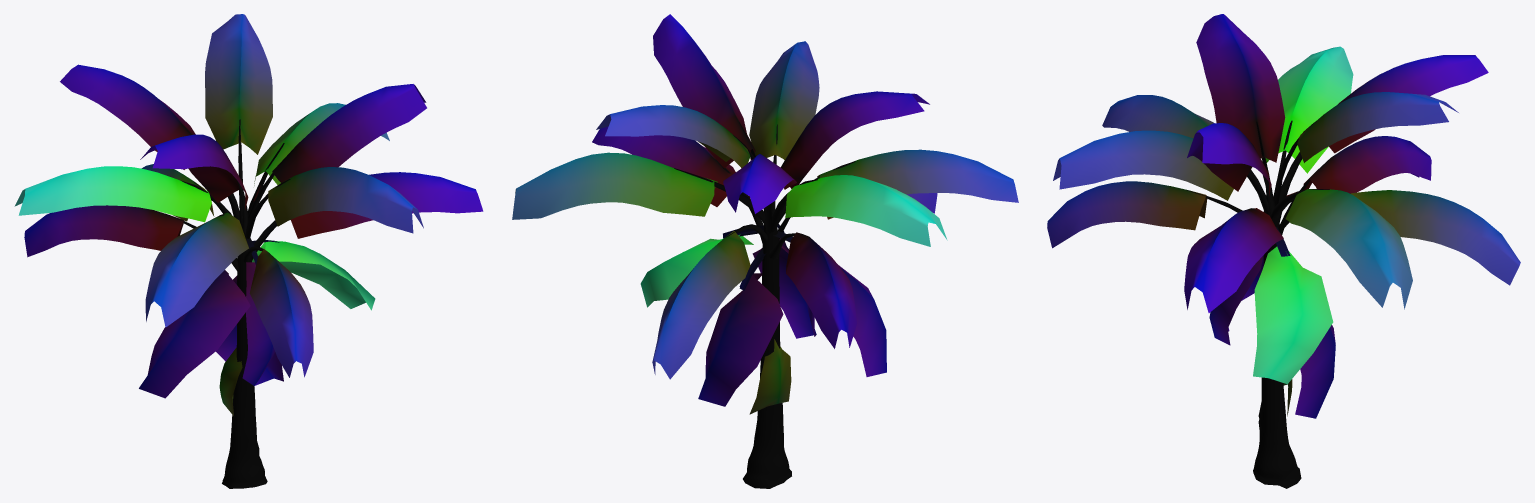
Rendered from BananaTree2.fbx.
The picture shows the model from 3 angles, left to right: view 1: azimuth 30°, elevation 25°; view 2: azimuth 150°, elevation 25°; view 3: azimuth 270°, elevation 25°; orthographic projection. The views are drawn at different scales.
Visible parts, largest first — view 1: BananaTree_var2_LOD0; view 2: BananaTree_var2_LOD0; view 3: BananaTree_var2_LOD0.
Part boxes in pixels (x1=…): BananaTree_var2_LOD0: x1=14, y1=14, x2=483, y2=488; BananaTree_var2_LOD0: x1=512, y1=14, x2=1018, y2=488; BananaTree_var2_LOD0: x1=1047, y1=14, x2=1520, y2=488.
Size of the model in its own units: 8.36 by 7.82 by 8.06.
